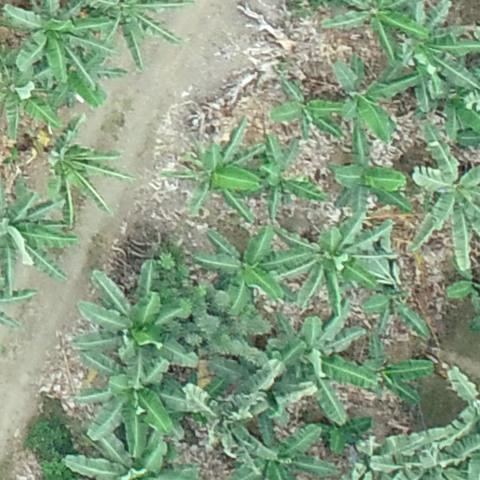Banana-plant: (79, 269, 204, 379), (262, 312, 367, 426), (83, 354, 190, 459), (405, 138, 480, 285), (175, 119, 264, 234), (317, 124, 416, 226), (279, 218, 389, 309), (47, 121, 131, 227), (199, 225, 294, 318), (2, 0, 106, 81), (0, 184, 72, 296), (241, 134, 328, 216), (84, 0, 182, 72), (171, 378, 269, 450), (349, 324, 437, 404), (231, 421, 348, 480), (68, 430, 204, 480), (325, 58, 401, 144), (407, 31, 480, 116), (381, 419, 480, 480), (326, 0, 427, 57), (270, 68, 339, 147), (0, 67, 70, 141)
